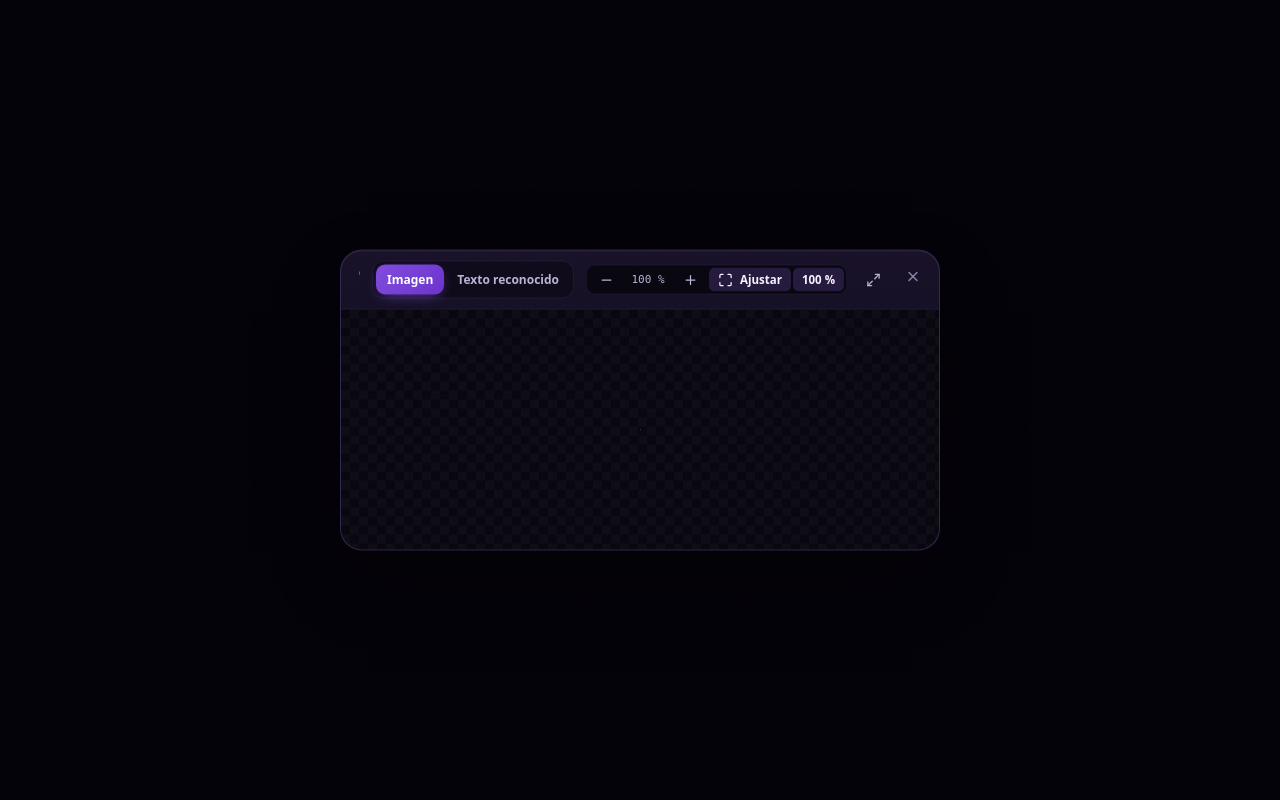
Test: carga la imagen grande cuando no viene lista y, con OCR, enseña el texto en su pestaña
Click the tab "Texto reconocido".
click(508, 280)  # box x1=446 y1=264 x2=570 y2=294
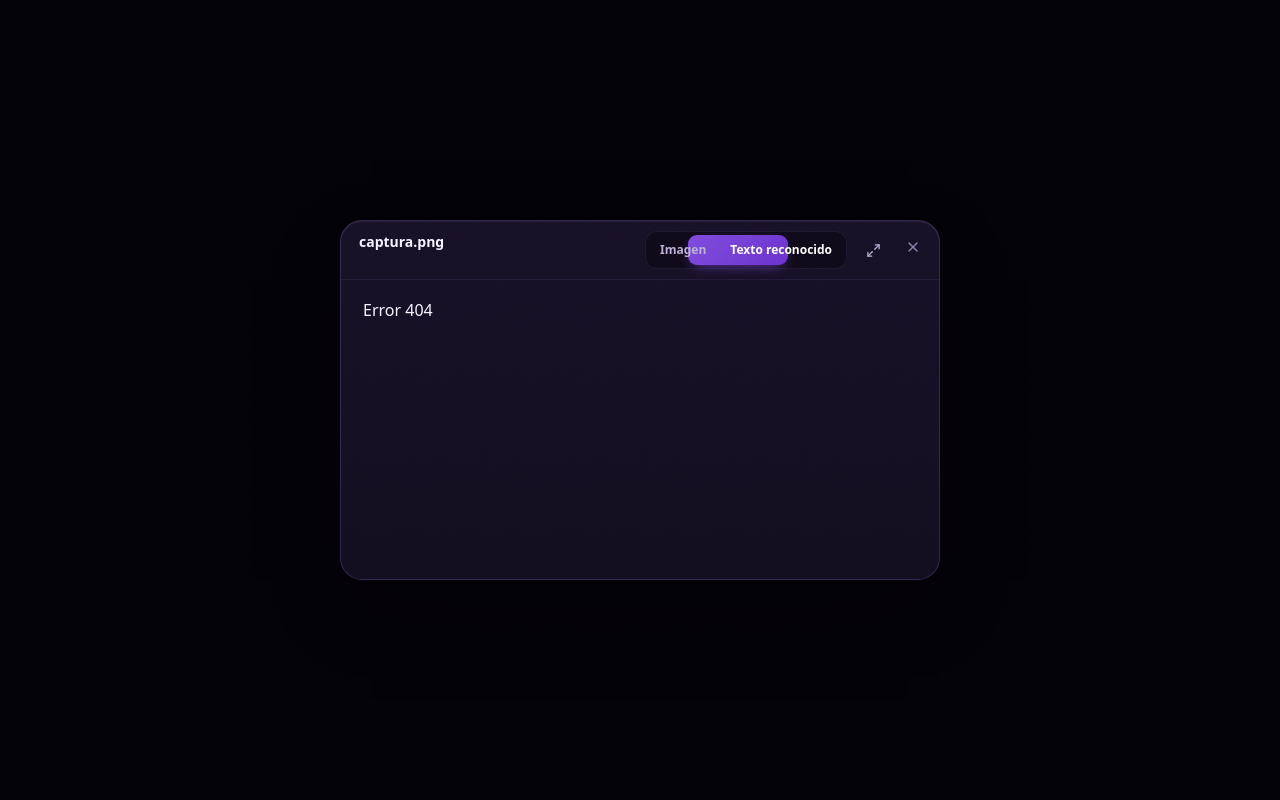
Expected: the text "Error 404" is shown, x1=363 y1=299 x2=433 y2=321
